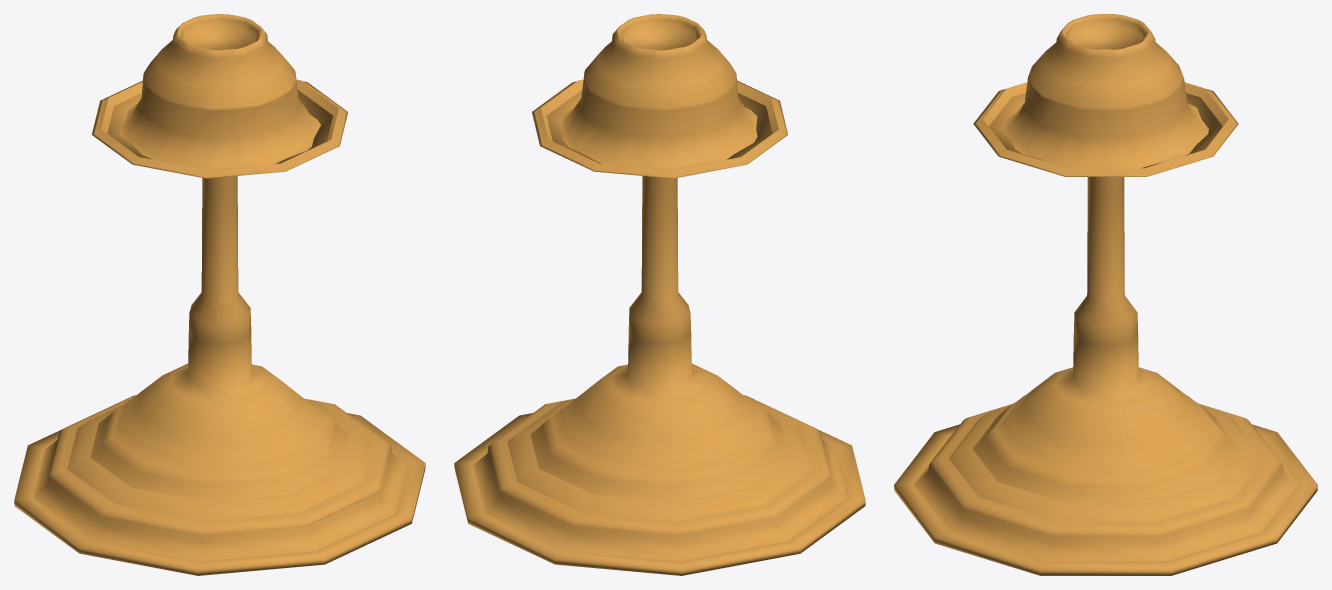
Rendered from candleHolder.fbx.
3 views of the same model, side by side, from view 1: azimuth 30°, elevation 25°; view 2: azimuth 150°, elevation 25°; view 3: azimuth 270°, elevation 25° (orthographic).
Parts seen in each view (by area): view 1: CandleStand; view 2: CandleStand; view 3: CandleStand.
Boxes of the visible parts, x1,y1,x2,y2 form: CandleStand: (14,14,425,575); CandleStand: (454,14,865,575); CandleStand: (894,14,1317,575).
Size of the model in its own units: 58.51 by 73.55 by 61.52.
